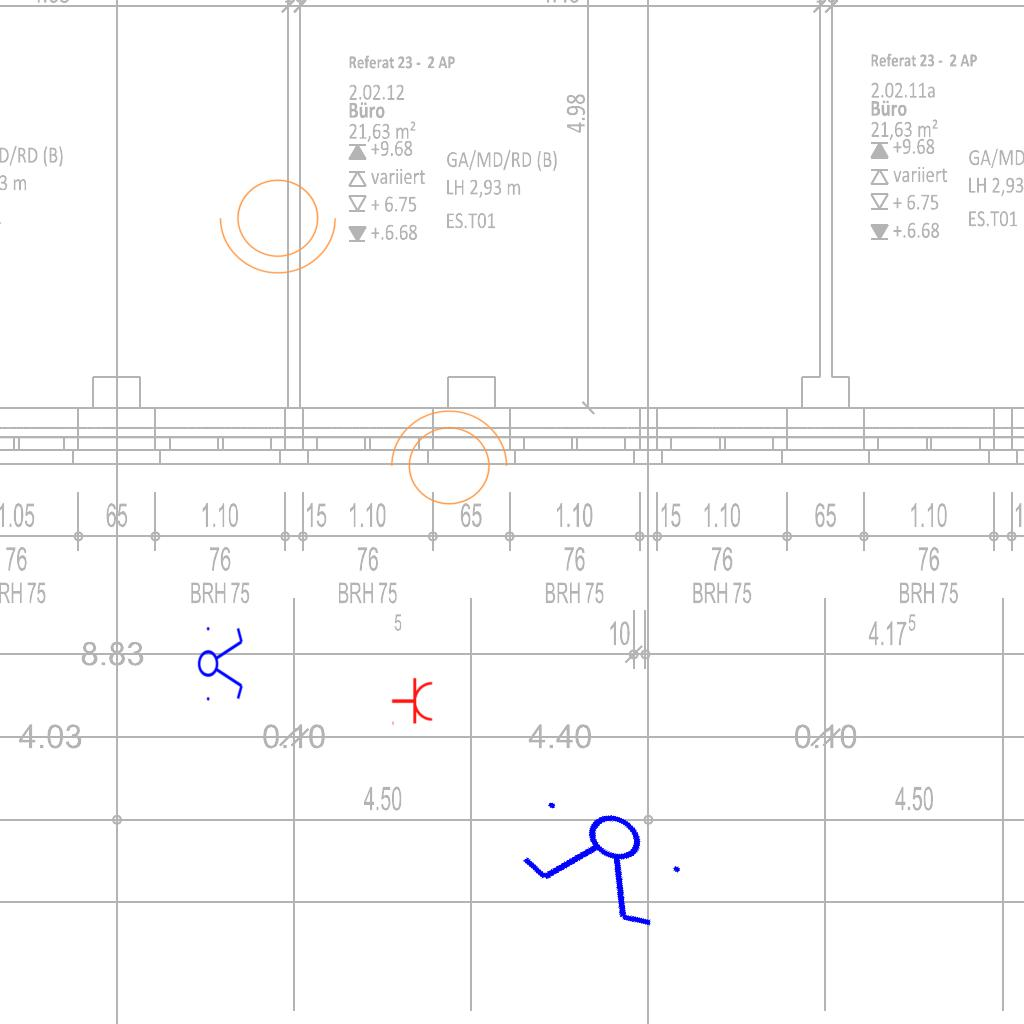Scheinwerfer_fuer_Alarmbeleuchtung: (380, 405, 512, 517), (215, 167, 347, 279)
Schukosteckdose_einfach: (391, 677, 434, 727)
Serienschalter: (507, 780, 701, 942), (197, 621, 245, 705)
